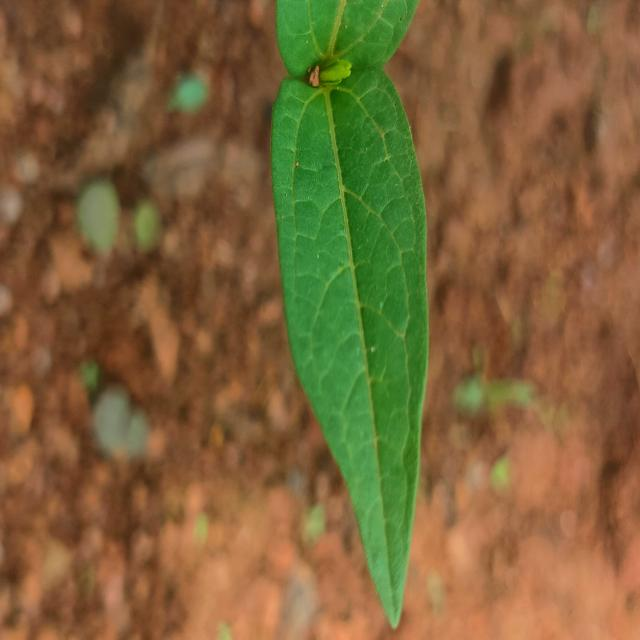Black gram_healthy: (268, 71, 429, 628)
